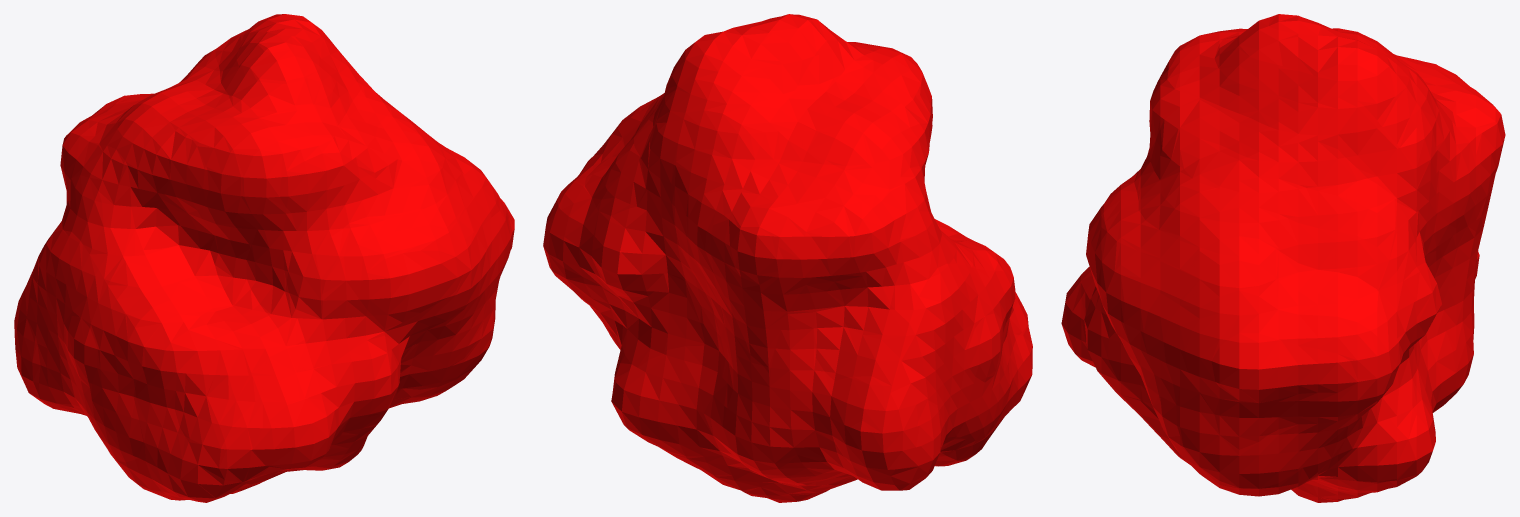
Rendered from apaH_coarse.dae.
3 renders of one model, left to right at view 1: azimuth 30°, elevation 25°; view 2: azimuth 150°, elevation 25°; view 3: azimuth 270°, elevation 25°, orthographic. The views are drawn at different scales.
Parts seen in each view (by area): view 1: apaH; view 2: apaH; view 3: apaH.
Part boxes in pixels (left/top/right/bottom): apaH: left=14, top=14, right=514, bottom=502; apaH: left=543, top=14, right=1032, bottom=502; apaH: left=1061, top=14, right=1505, bottom=502.
Bounding box in the file's own units: 52.47 × 54.02 × 44.6.
